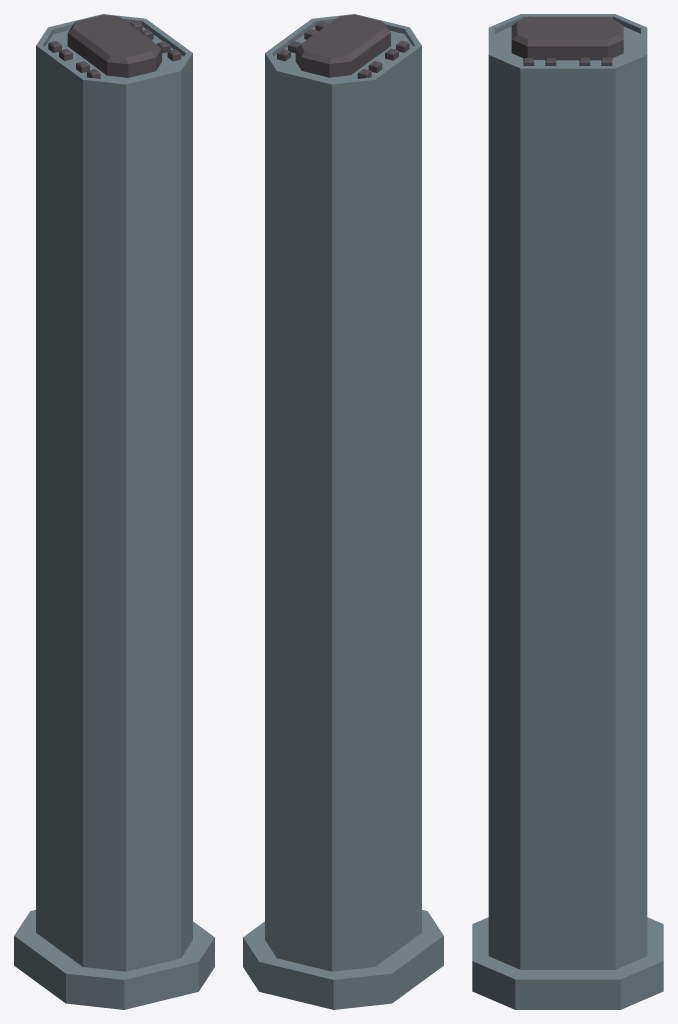
Rendered from Skyscraper3.fbx.
3 views of the same model, side by side, from view 1: azimuth 30°, elevation 25°; view 2: azimuth 150°, elevation 25°; view 3: azimuth 270°, elevation 25° (orthographic).
Visible parts, largest first — view 1: Skyscraper3; view 2: Skyscraper3; view 3: Skyscraper3.
Boxes of the visible parts, x1,y1,x2,y2 form: Skyscraper3: (14,14,214,1009); Skyscraper3: (243,14,443,1009); Skyscraper3: (472,14,663,1009).
Bounding box in the file's own units: 2398 × 14311 × 2622.
